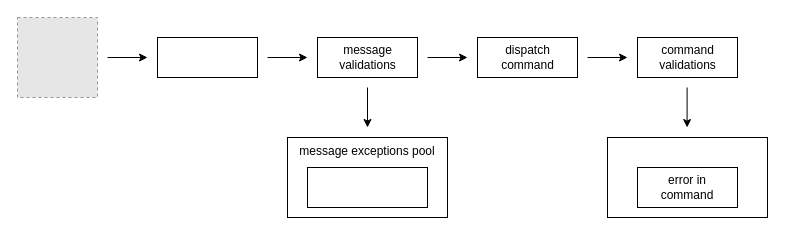
This 785x235 diagram has some shape labels left out. Grey dashed boxes stand in for pictures. The shapes that lost their labels are listed below. From the top down, each one's box as (x1, y1, x2, y2) in pixels, then its label:
(156, 36, 258, 78): Message Handler
(306, 166, 428, 208): error in message handler
(606, 136, 768, 218): command exceptions pool
